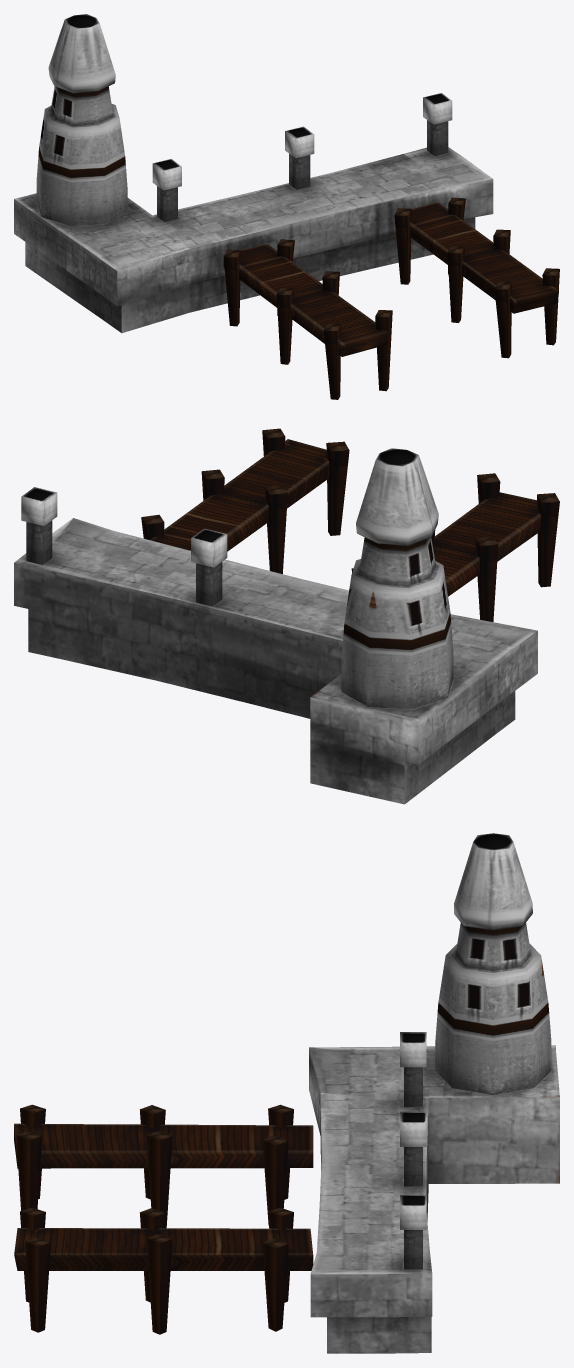
File: landmark-port.glb
The picture shows the model from 3 angles, top to bottom: view 1: azimuth 30°, elevation 25°; view 2: azimuth 150°, elevation 25°; view 3: azimuth 270°, elevation 25°; orthographic projection. The views are drawn at different scales.
Parts seen in each view (by area): view 1: Port; view 2: Port; view 3: Port.
Boxes of the visible parts, <box> form: Port: <box>14,14,559,399</box>; Port: <box>14,428,559,804</box>; Port: <box>14,833,559,1353</box>.
Size of the model in its own units: 0.6992 by 0.4537 by 0.7049.
1 material, 1 textured.
